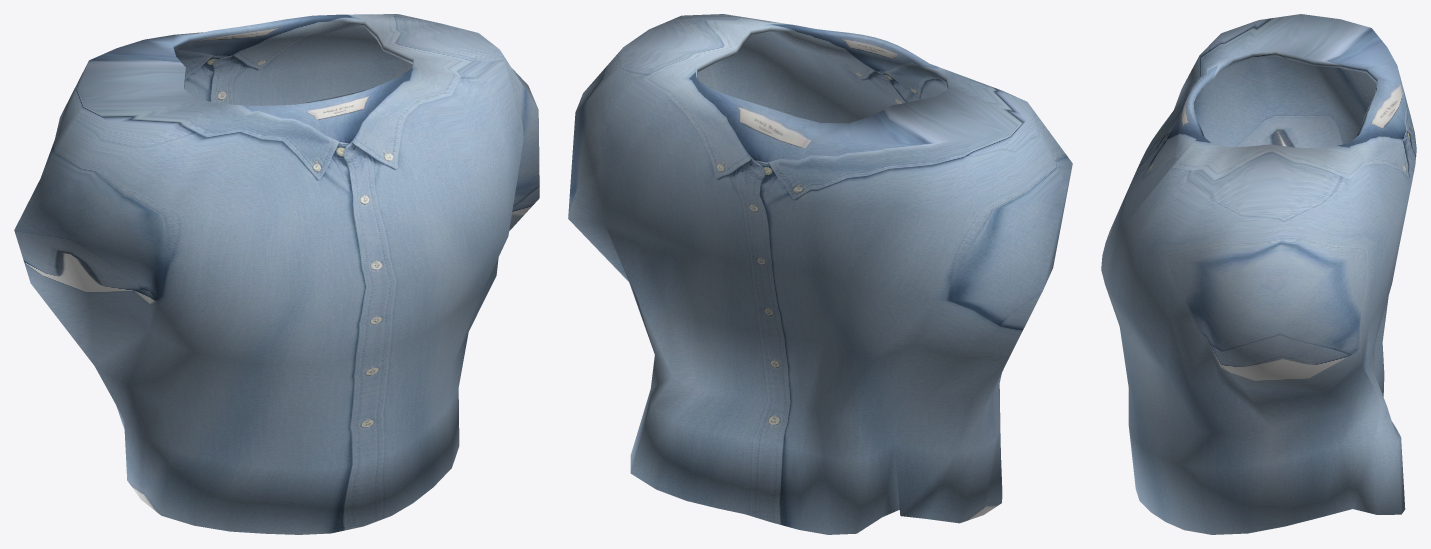
3 views of the same model, side by side, from view 1: azimuth 30°, elevation 25°; view 2: azimuth 150°, elevation 25°; view 3: azimuth 270°, elevation 25° (orthographic). The views are drawn at different scales.
Visible parts, largest first — view 1: garment; view 2: garment; view 3: garment.
Boxes of the visible parts, x1,y1,x2,y2 form: garment: (14, 14, 539, 534); garment: (568, 14, 1072, 534); garment: (1101, 14, 1416, 534).
Bounding box in the file's own units: 0.555 × 0.4549 × 0.3317.
Materials: 1 (1 with a texture image).
